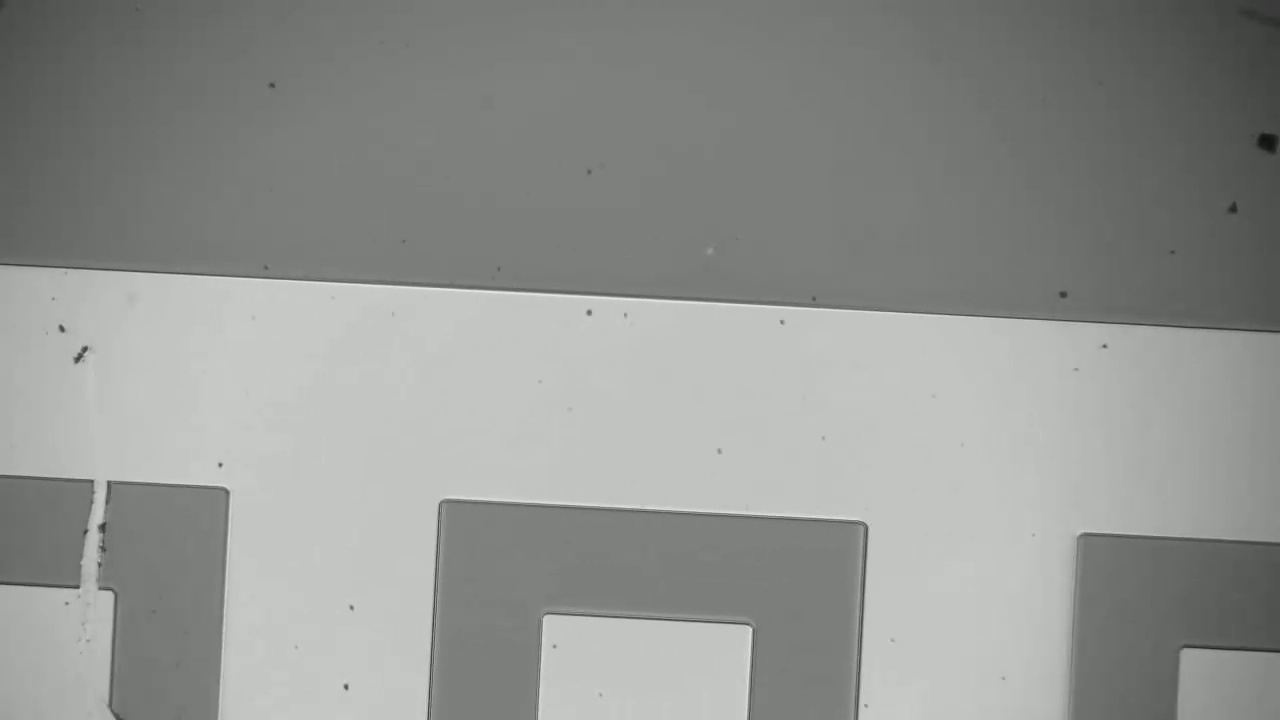Short_circuit: (53, 464, 120, 604)
